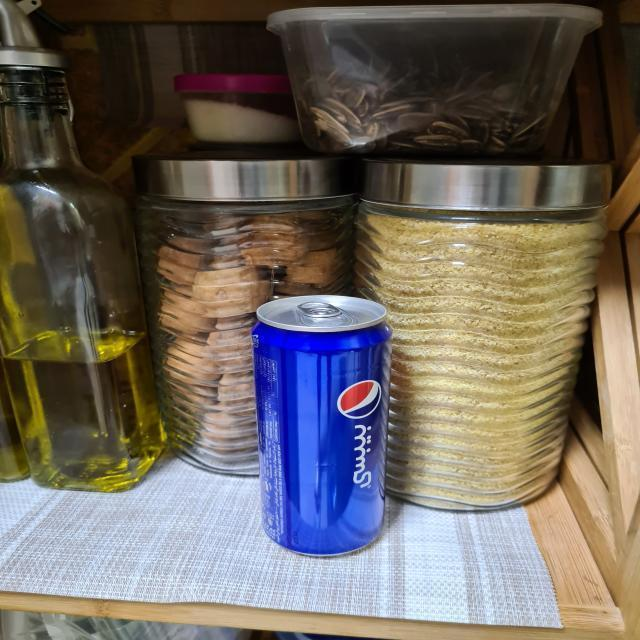metal-can: (246, 297, 406, 552)
